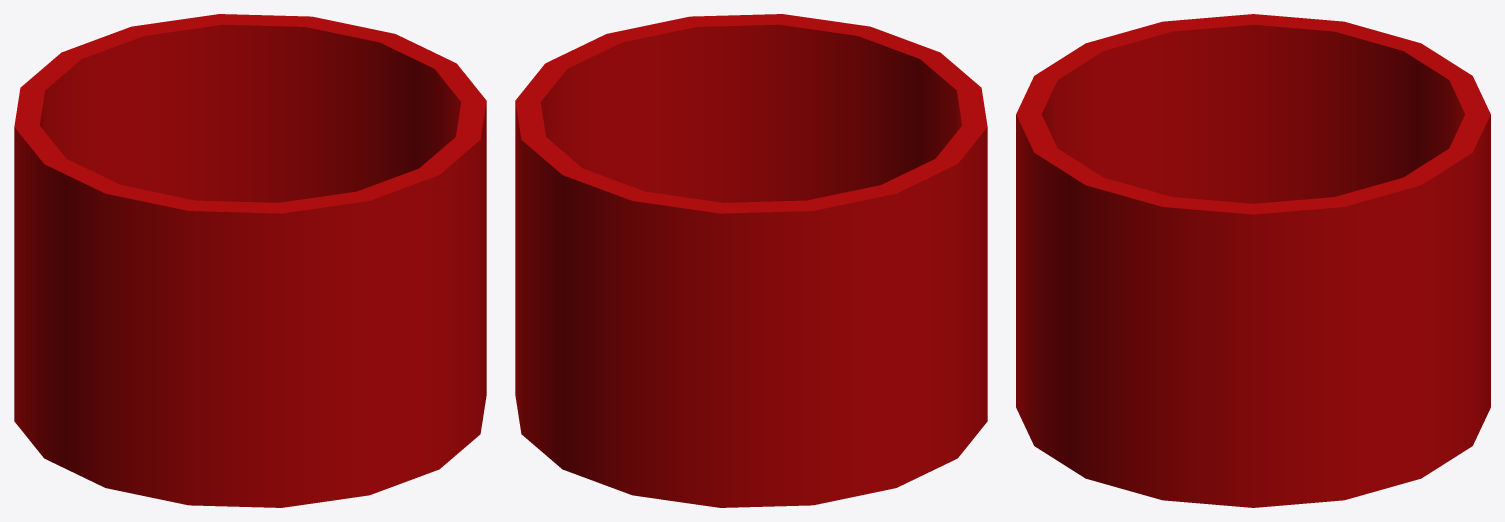
Rendered from circulo.fbx.
3 views of the same model, side by side, from view 1: azimuth 30°, elevation 25°; view 2: azimuth 150°, elevation 25°; view 3: azimuth 270°, elevation 25° (orthographic).
Parts seen in each view (by area): view 1: Cylinder; view 2: Cylinder; view 3: Cylinder.
Part boxes in pixels (left/top/right/bottom): Cylinder: left=14, top=14, right=486, bottom=507; Cylinder: left=515, top=14, right=987, bottom=507; Cylinder: left=1016, top=14, right=1490, bottom=507.
Size of the model in its own units: 564 by 385 by 564.
